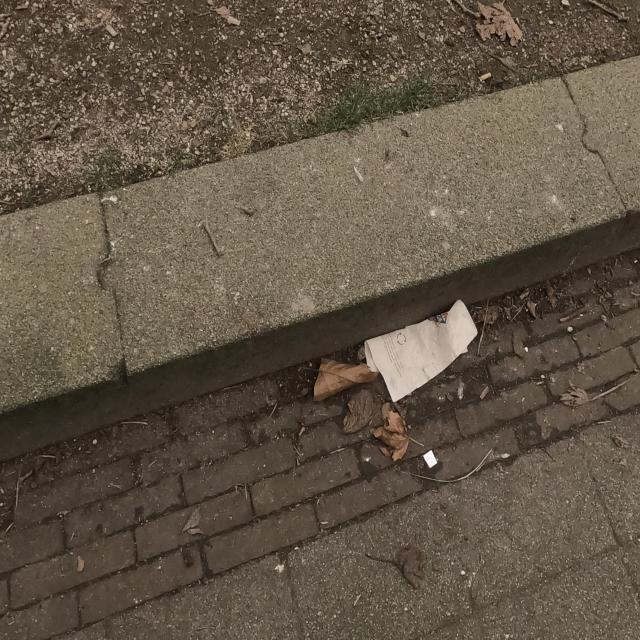Paper: (359, 306, 476, 391)
